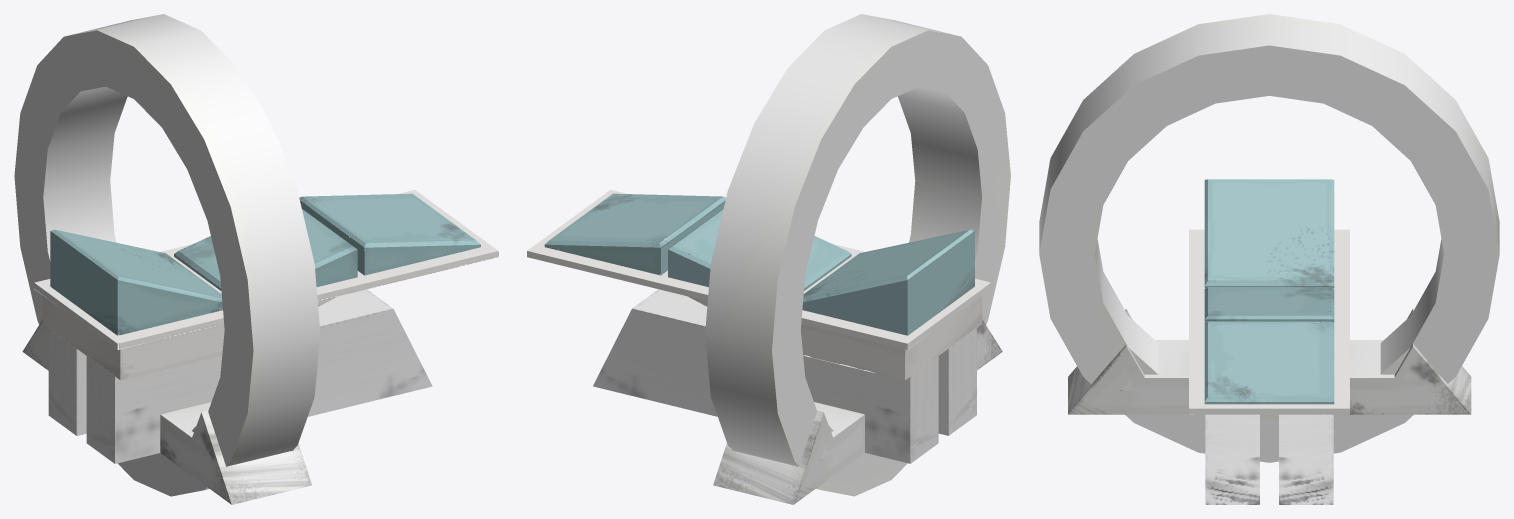
File: Med Bay Bed.fbx
3 views of the same model, side by side, from view 1: azimuth 30°, elevation 25°; view 2: azimuth 150°, elevation 25°; view 3: azimuth 270°, elevation 25° (orthographic). The views are drawn at different scales.
Visible parts, largest first — view 1: MedBay_ring, MedBay, MedBay_head_cushion, MedBay_bottom_cushion, MedBay_bed, MedBay_bed_base, MedBay_mid_cushion; view 2: MedBay_ring, MedBay, MedBay_head_cushion, MedBay_bottom_cushion, MedBay_bed, MedBay_bed_base, MedBay_mid_cushion; view 3: MedBay_ring, MedBay, MedBay_head_cushion, MedBay_bottom_cushion, MedBay_bed, MedBay_mid_cushion.
Part boxes in pixels (x1=…): MedBay_ring: x1=14, y1=14, x2=320, y2=496; MedBay: x1=22, y1=289, x2=432, y2=504; MedBay_head_cushion: x1=50, y1=229, x2=222, y2=335; MedBay_bottom_cushion: x1=299, y1=193, x2=480, y2=275; MedBay_bed: x1=34, y1=190, x2=498, y2=349; MedBay_bed_base: x1=43, y1=295, x2=337, y2=380; MedBay_mid_cushion: x1=174, y1=209, x2=357, y2=291; MedBay_ring: x1=705, y1=14, x2=1010, y2=496; MedBay: x1=593, y1=289, x2=1002, y2=504; MedBay_head_cushion: x1=802, y1=229, x2=974, y2=335; MedBay_bottom_cushion: x1=544, y1=193, x2=725, y2=275; MedBay_bed: x1=527, y1=189, x2=990, y2=349; MedBay_bed_base: x1=688, y1=296, x2=982, y2=380; MedBay_mid_cushion: x1=668, y1=209, x2=851, y2=290; MedBay_ring: x1=1039, y1=14, x2=1499, y2=462; MedBay: x1=1068, y1=309, x2=1471, y2=504; MedBay_head_cushion: x1=1204, y1=179, x2=1334, y2=288; MedBay_bottom_cushion: x1=1204, y1=321, x2=1334, y2=404; MedBay_bed: x1=1189, y1=229, x2=1349, y2=414; MedBay_mid_cushion: x1=1204, y1=287, x2=1334, y2=322.
Bounding box in the file's own units: 63.37 × 68.92 × 68.92.
1 material, 1 textured.
